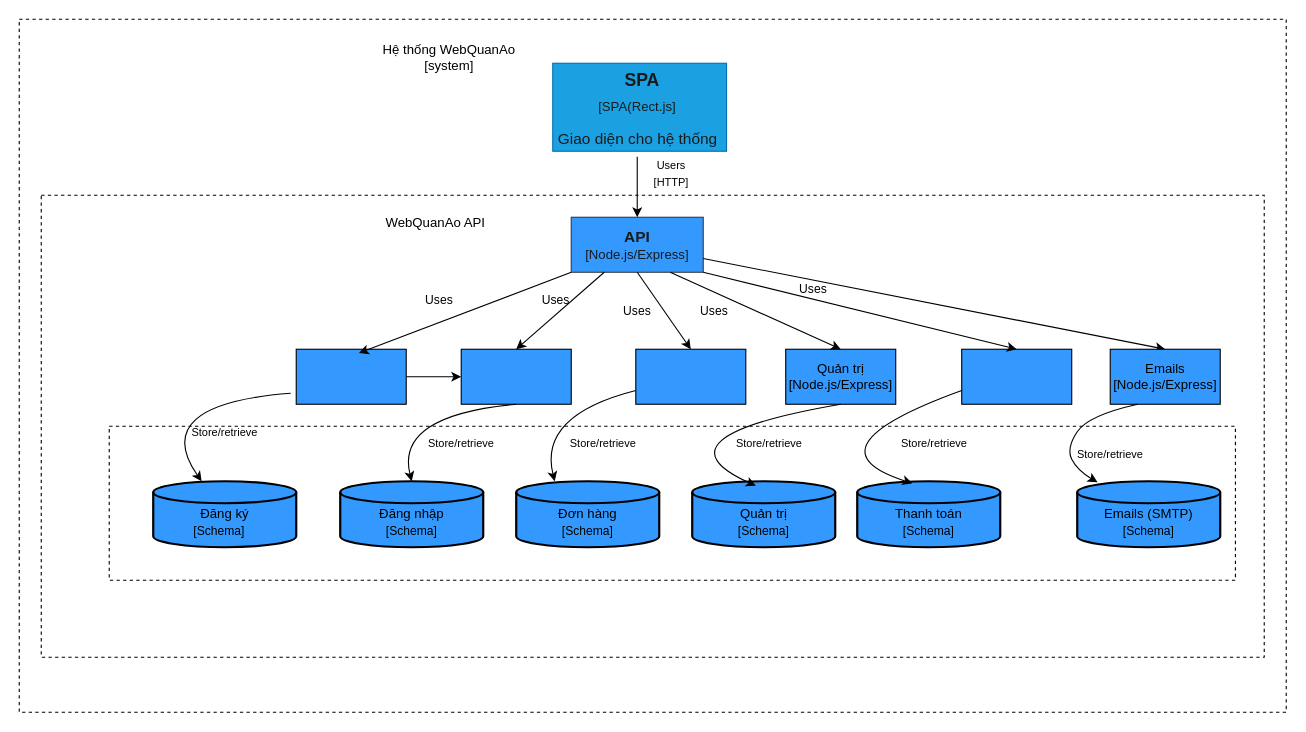
The diagram is 1306 pixels wide and 732 high, and some of its shapes have lost their labels. The shapes that lost their labels are listed below. From the top down, each one's centre as x and y in pixels, then its label:
At pixel 350 376: "Đăng ký [Node.js/Express]".
At pixel 515 376: "Đăng nhập [Node.js/Express]".
At pixel 690 376: "Đơn hàng [Node.js/Express]".
At pixel 1016 376: "Thanh toán [Node.js/Express]".
